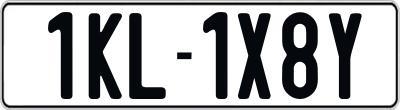1: (47, 9, 75, 96), (203, 12, 228, 105)
8: (281, 9, 317, 96)
K: (88, 12, 122, 104)
L: (129, 12, 169, 102)
X: (237, 11, 275, 102)
Y: (326, 11, 361, 102)
